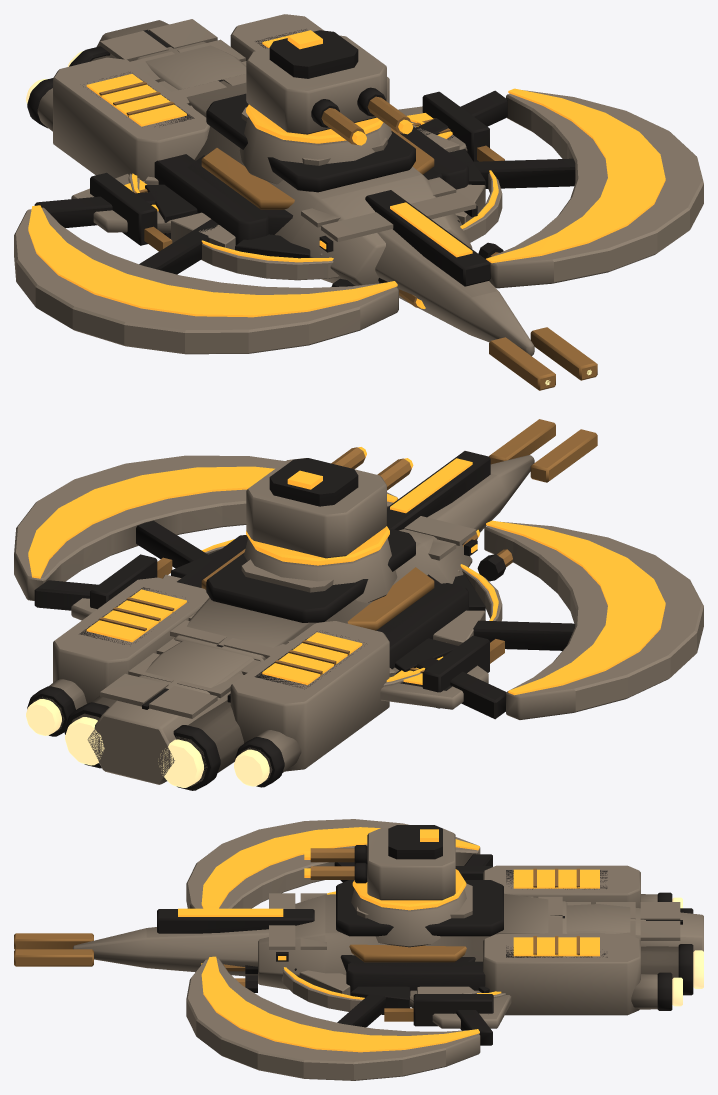
Rendered from corona-craft.glb.
The picture shows the model from 3 angles, top to bottom: view 1: azimuth 30°, elevation 25°; view 2: azimuth 150°, elevation 25°; view 3: azimuth 270°, elevation 25°; orthographic projection. The views are drawn at different scales.
Visible parts, largest first — view 1: corona_wraith, corona_carrier, corona_turret, corona_artillery, corona_fighter; view 2: corona_wraith, corona_carrier, corona_turret, corona_artillery, corona_fighter; view 3: corona_wraith, corona_carrier, corona_turret, corona_artillery, corona_fighter.
Boxes of the visible parts, bbox=[...] form: corona_wraith: bbox=[14, 14, 703, 390]; corona_carrier: bbox=[71, 74, 503, 308]; corona_turret: bbox=[187, 30, 442, 234]; corona_artillery: bbox=[128, 117, 502, 280]; corona_fighter: bbox=[90, 91, 504, 251]; corona_wraith: bbox=[14, 419, 703, 790]; corona_carrier: bbox=[71, 516, 512, 709]; corona_turret: bbox=[194, 447, 440, 634]; corona_artillery: bbox=[163, 539, 502, 686]; corona_fighter: bbox=[90, 554, 504, 708]; corona_wraith: bbox=[14, 819, 703, 1080]; corona_carrier: bbox=[201, 880, 567, 1028]; corona_turret: bbox=[304, 825, 475, 971]; corona_artillery: bbox=[241, 891, 505, 1014]; corona_fighter: bbox=[384, 866, 493, 1026].
Size of the model in its own units: 2.75 by 0.76 by 3.28.
